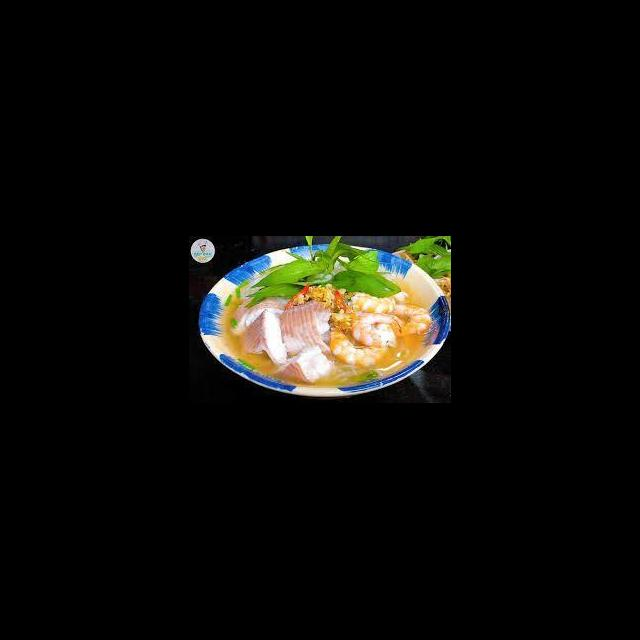ca: (277, 296, 338, 356), (228, 284, 294, 338), (238, 306, 289, 368), (270, 342, 336, 388)
rau ram: (242, 238, 403, 310)
tom: (327, 318, 392, 371), (350, 308, 400, 352), (385, 298, 433, 340), (349, 288, 401, 318)
